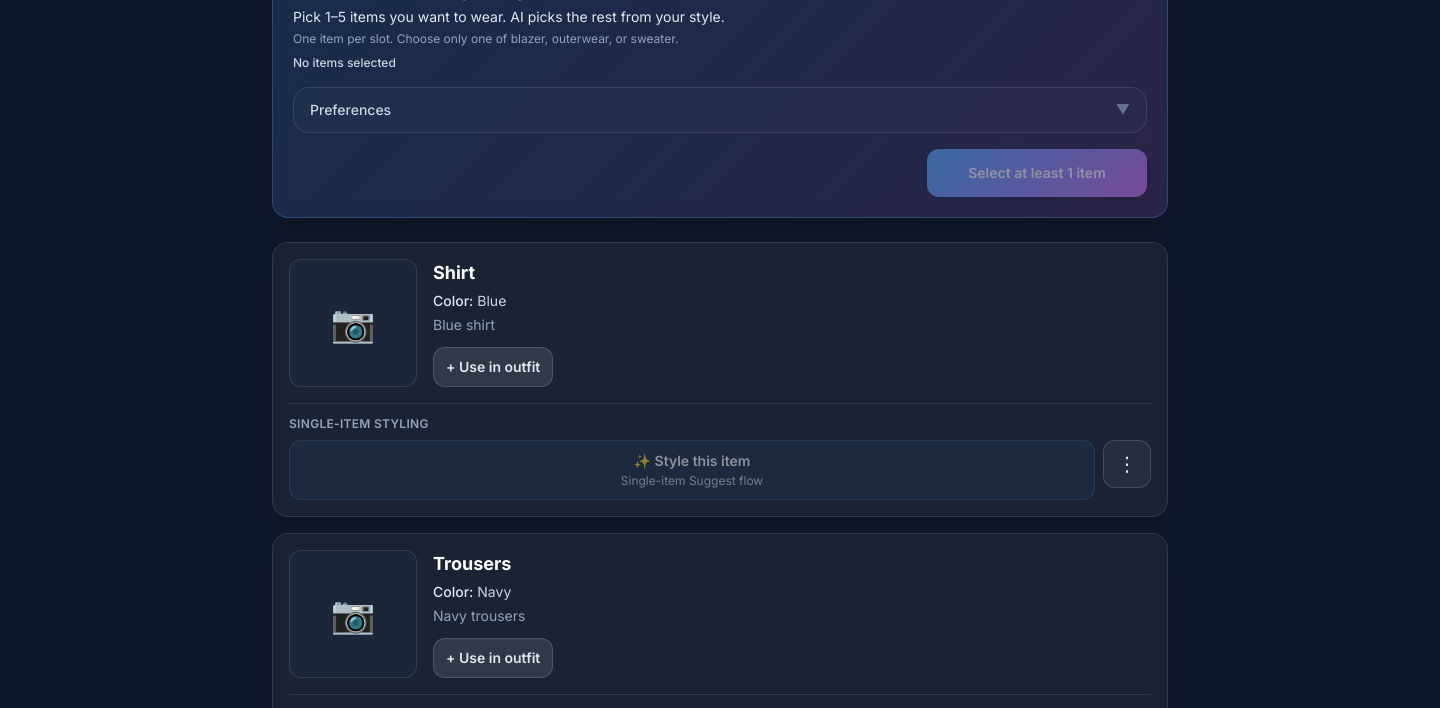
Test: Wardrobe page › shows selection summary with slot names when multiple items are selected
(page scrolled)
Click the button with aria-label "Use shirt in outfit" at (493, 367), box [433,347,553,387]
(page scrolled)
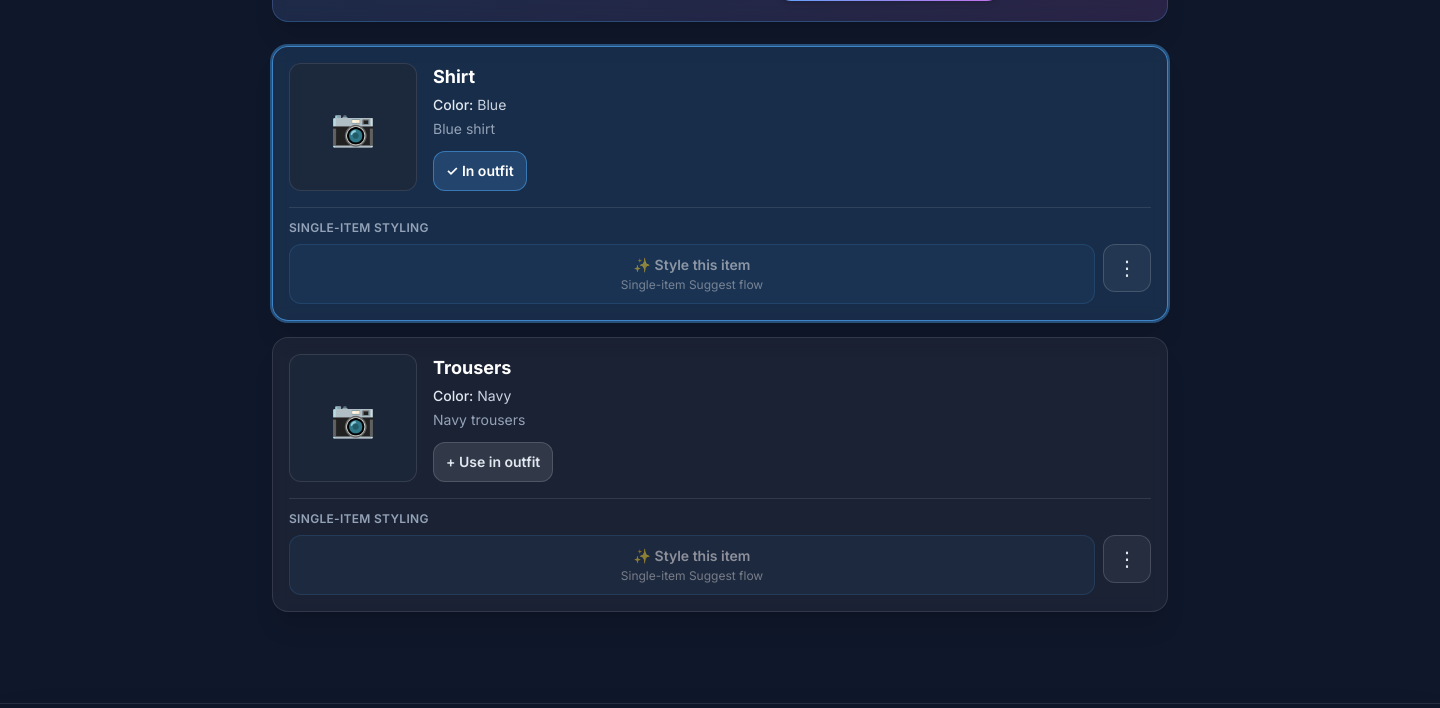
Click the button with aria-label "Use trouser in outfit" at (493, 462), box [433,442,553,482]
(page scrolled)
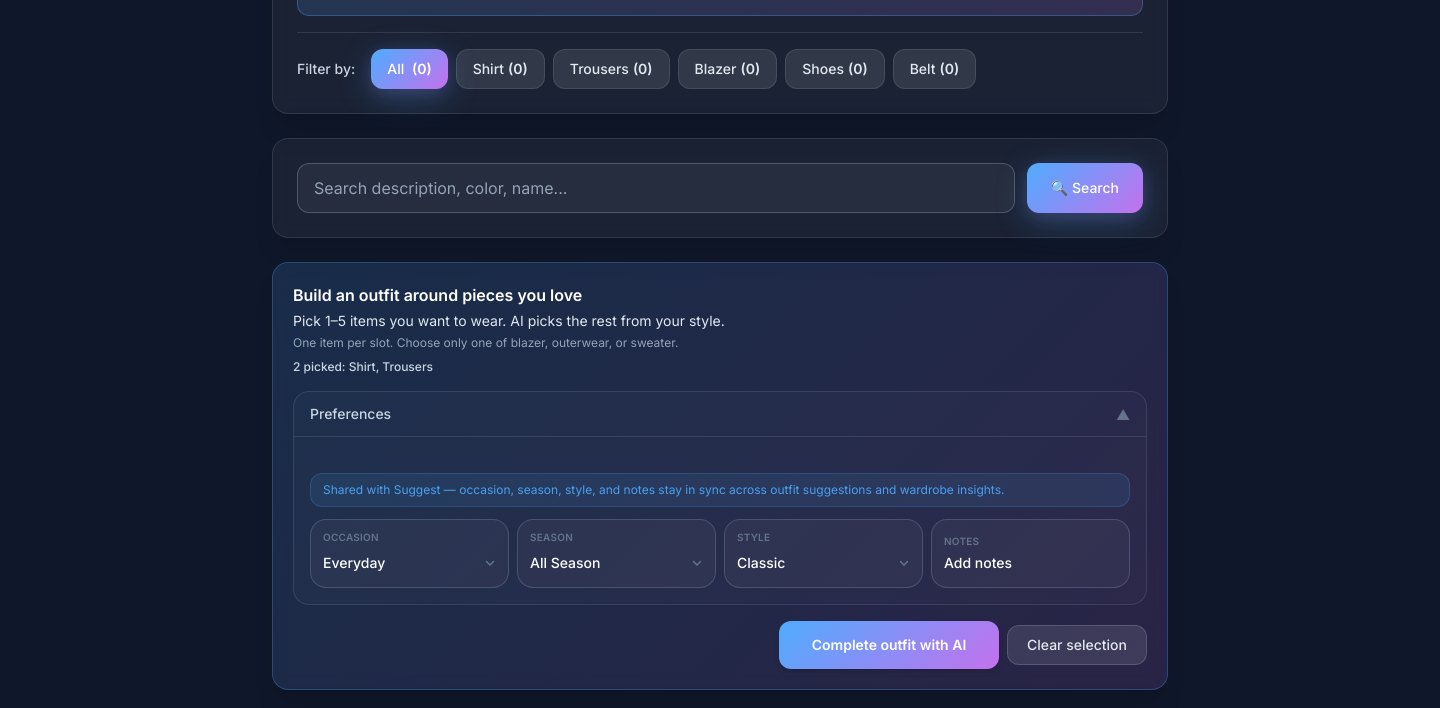
Result: the text with test id "wardrobe-selection-status" reads "2 picked: Shirt, Trousers" at [293,359,433,374]
